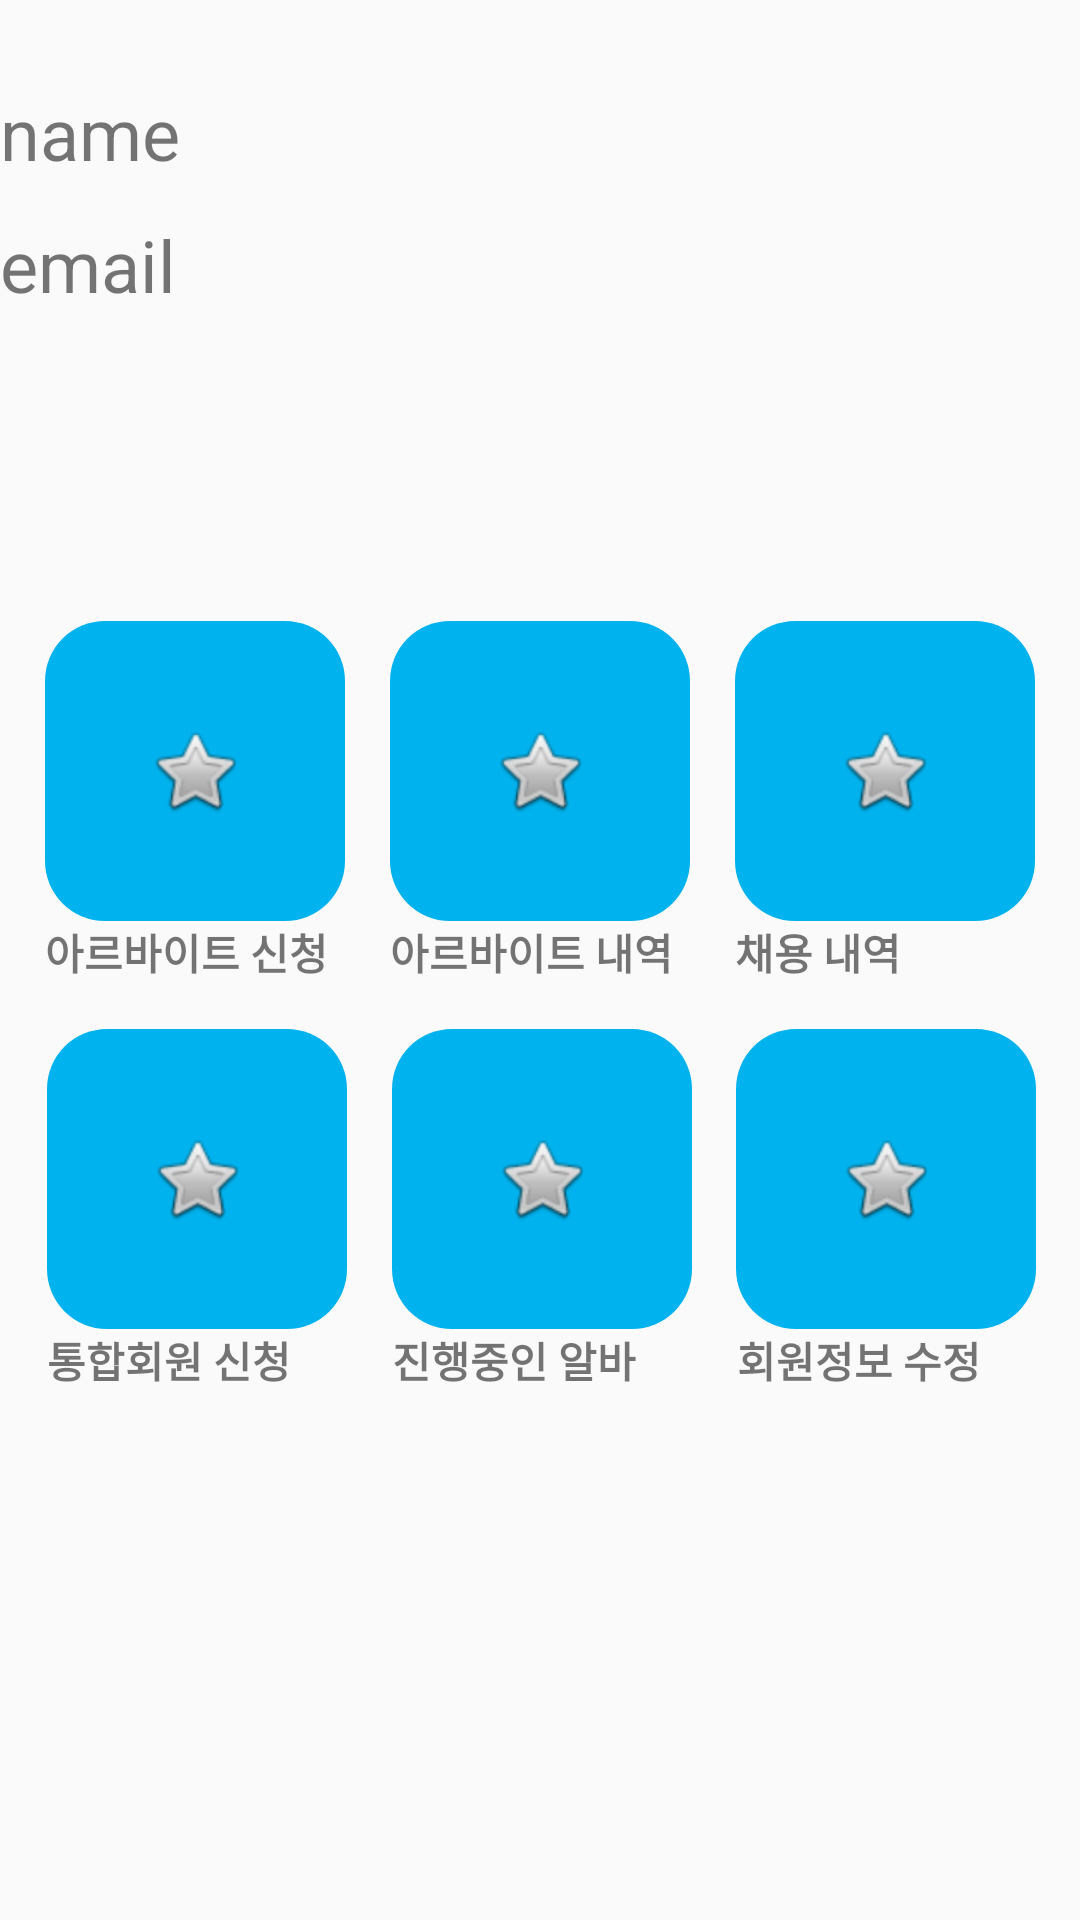

Point at icon controls on the screen. Image size 1080x1920, points as [x,y].
star: [195,771], [540,771], [885,771], [197,1179], [542,1179], [886,1179]
